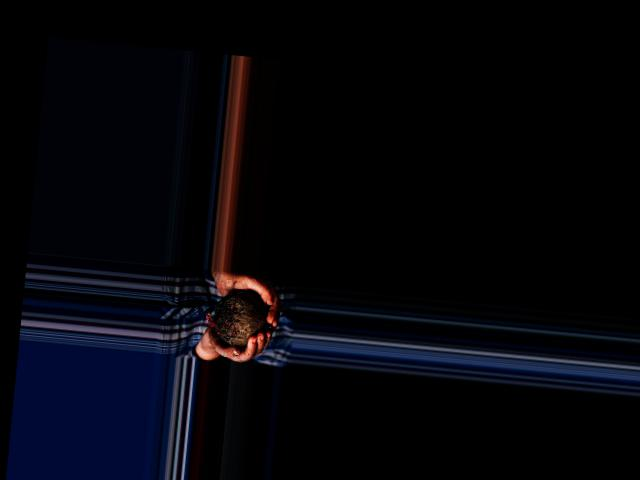beet: (202, 287, 270, 348)
